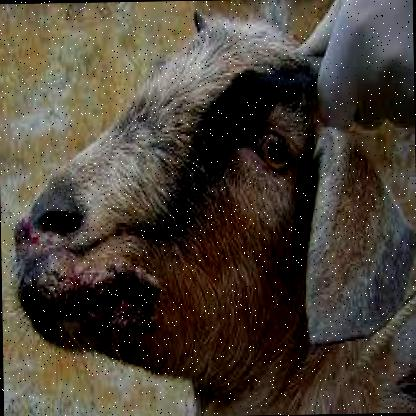ppr: (11, 191, 128, 309)
